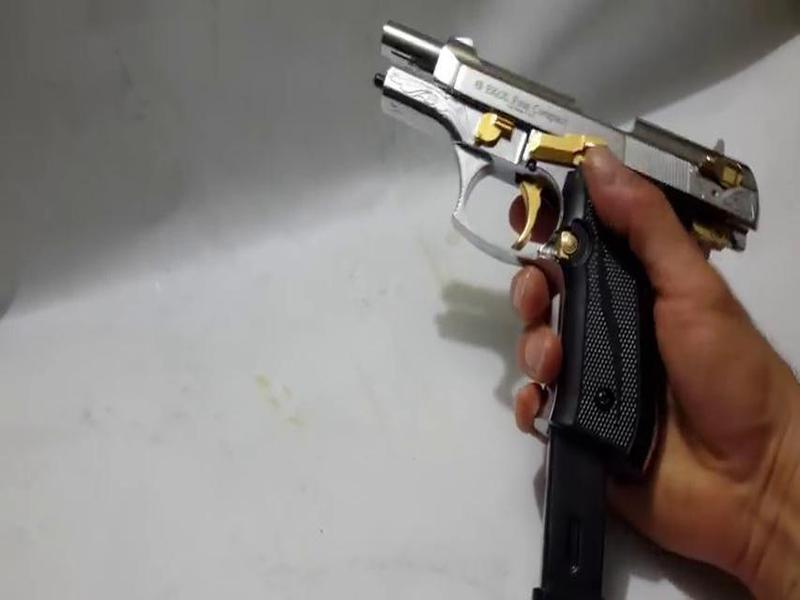Pistola: (331, 11, 767, 464)
